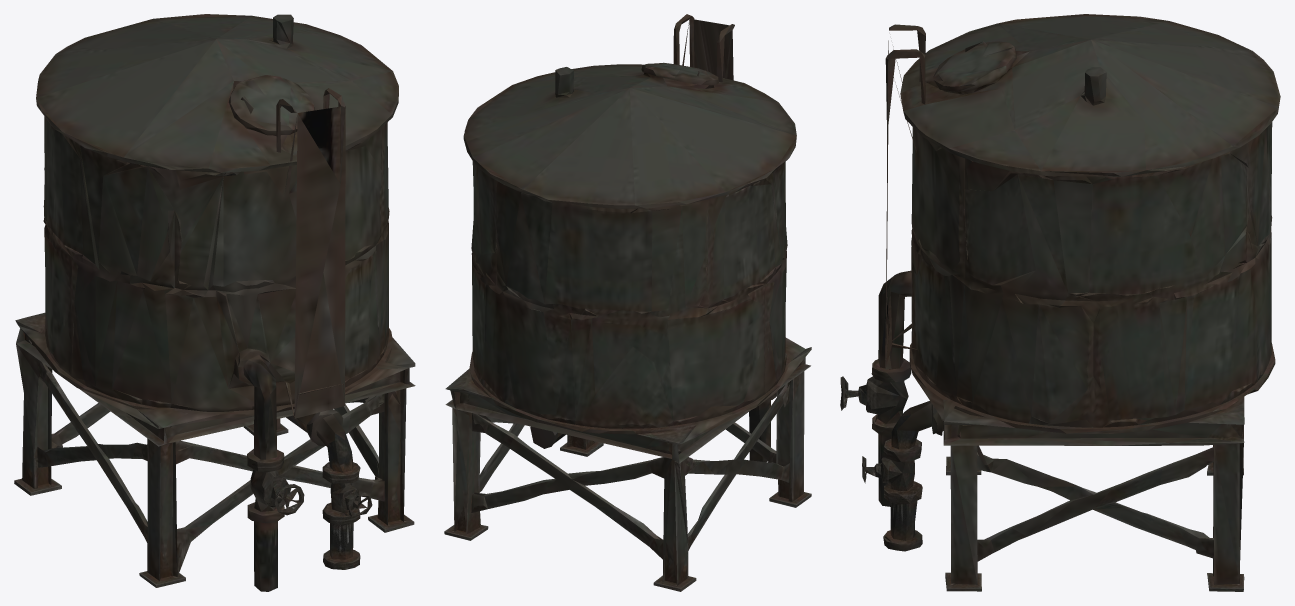
File: ncz-water-tank.glb
The picture shows the model from 3 angles, left to right: view 1: azimuth 30°, elevation 25°; view 2: azimuth 150°, elevation 25°; view 3: azimuth 270°, elevation 25°; orthographic projection. The views are drawn at different scales.
Visible parts, largest first — view 1: output_unwrapped; view 2: output_unwrapped; view 3: output_unwrapped.
Part boxes in pixels (bbox=[...]): output_unwrapped: bbox=[14, 14, 415, 591]; output_unwrapped: bbox=[444, 14, 811, 591]; output_unwrapped: bbox=[840, 14, 1280, 591].
Size of the model in its own units: 1.32 by 1.9 by 1.54.
Materials: 1 (1 with a texture image).
